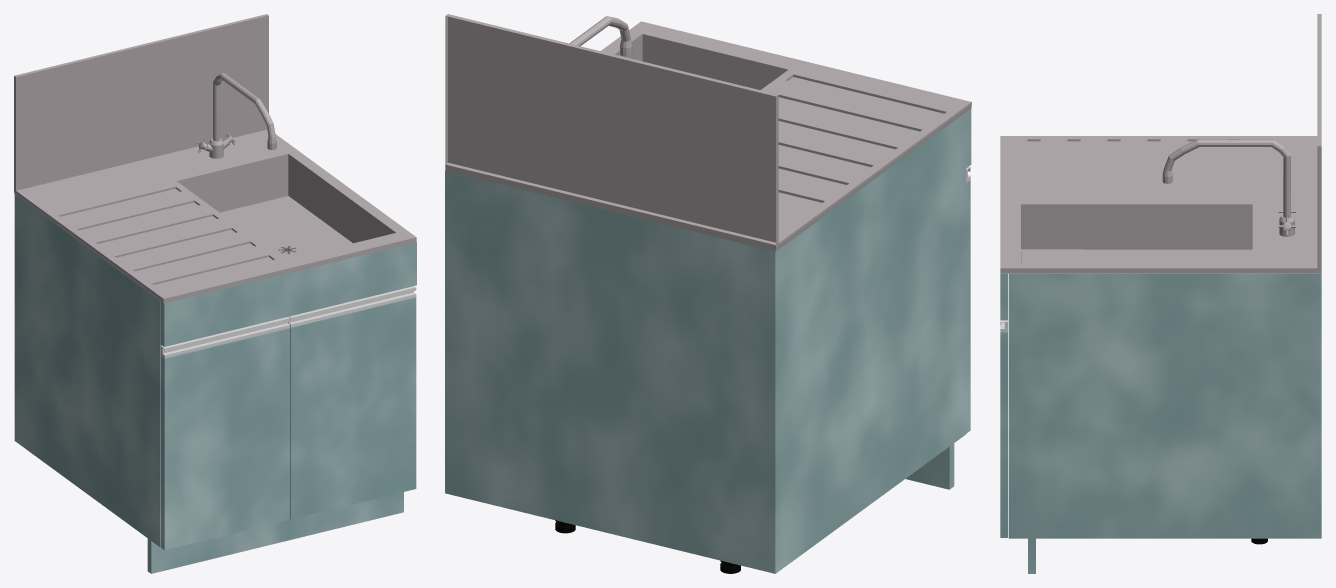
Rendered from Sink_blok.fbx.
The picture shows the model from 3 angles, left to right: view 1: azimuth 30°, elevation 25°; view 2: azimuth 150°, elevation 25°; view 3: azimuth 270°, elevation 25°; orthographic projection. The views are drawn at different scales.
Parts seen in each view (by area): view 1: Sink_blok_Baked; view 2: Sink_blok_Baked; view 3: Sink_blok_Baked.
Boxes of the visible parts, left/top/right/bottom form: Sink_blok_Baked: left=14, top=14, right=416, bottom=573; Sink_blok_Baked: left=445, top=14, right=971, bottom=573; Sink_blok_Baked: left=1000, top=14, right=1321, bottom=573.
Size of the model in its own units: 80.16 by 121 by 82.09.
